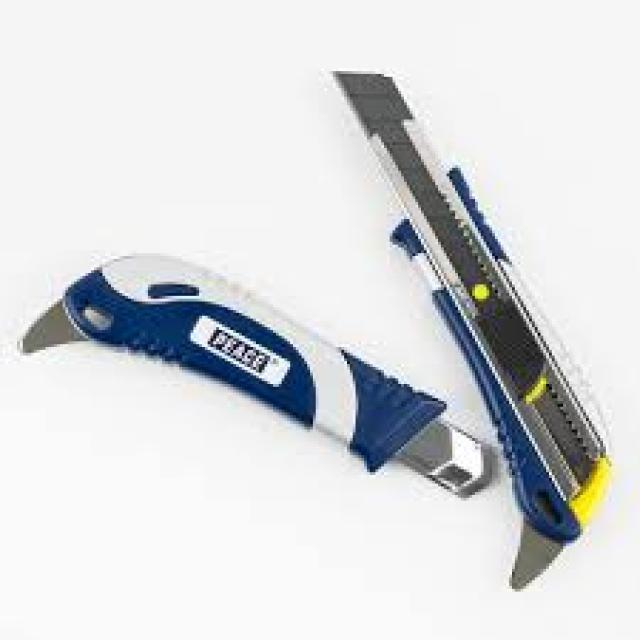cutter: (325, 59, 616, 554), (12, 234, 502, 507)
